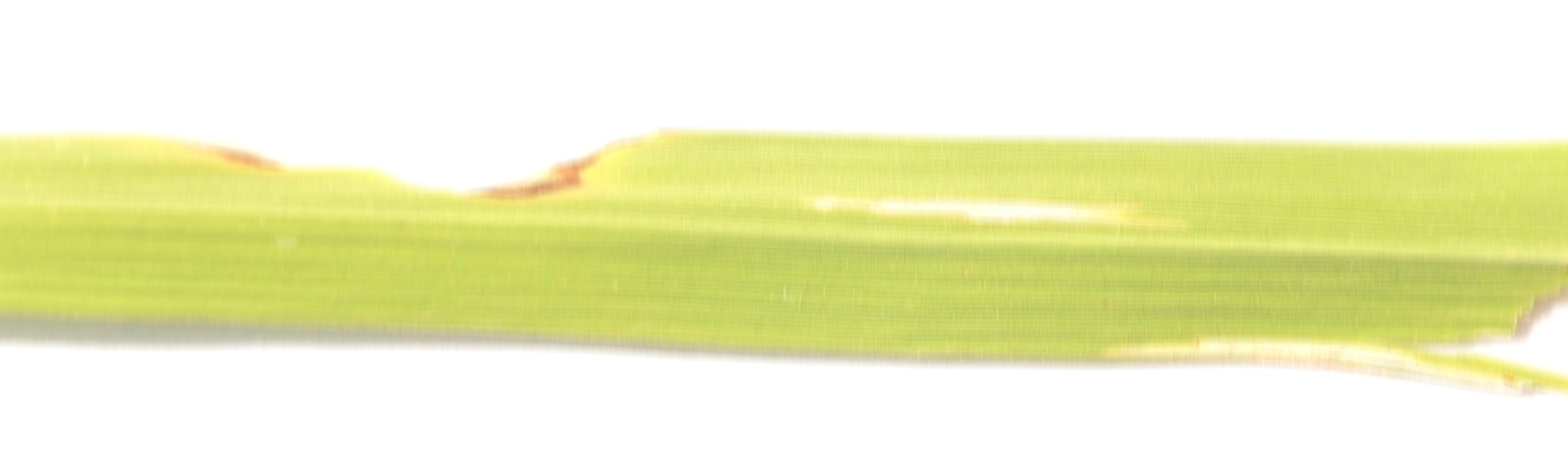Leaf_Blast: (716, 157, 1375, 294)
